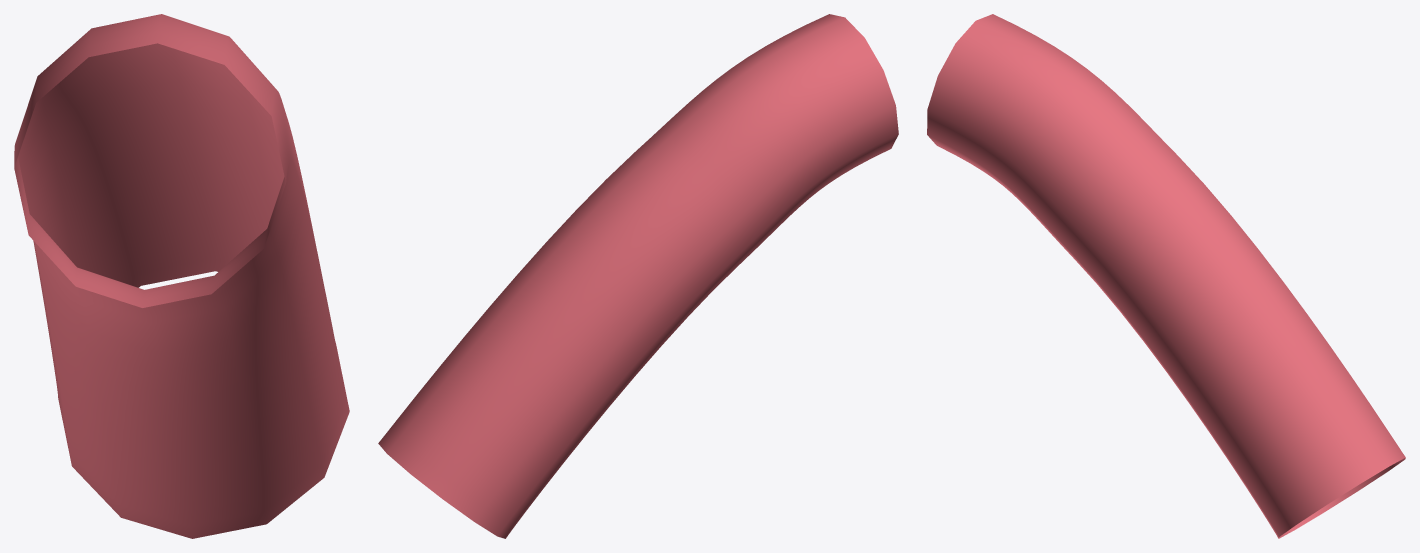
The picture shows the model from 3 angles, left to right: view 1: azimuth 30°, elevation 25°; view 2: azimuth 150°, elevation 25°; view 3: azimuth 270°, elevation 25°; orthographic projection. The views are drawn at different scales.
Visible parts, largest first — view 1: ZA_9eeabd1e24cbea89; view 2: ZA_9eeabd1e24cbea89; view 3: ZA_9eeabd1e24cbea89.
Boxes of the visible parts, x1,y1,x2,y2 form: ZA_9eeabd1e24cbea89: [14, 14, 349, 538]; ZA_9eeabd1e24cbea89: [378, 14, 898, 538]; ZA_9eeabd1e24cbea89: [927, 14, 1405, 538].
Size of the model in its own units: 0.00693 by 0.00842 by 0.00865.
